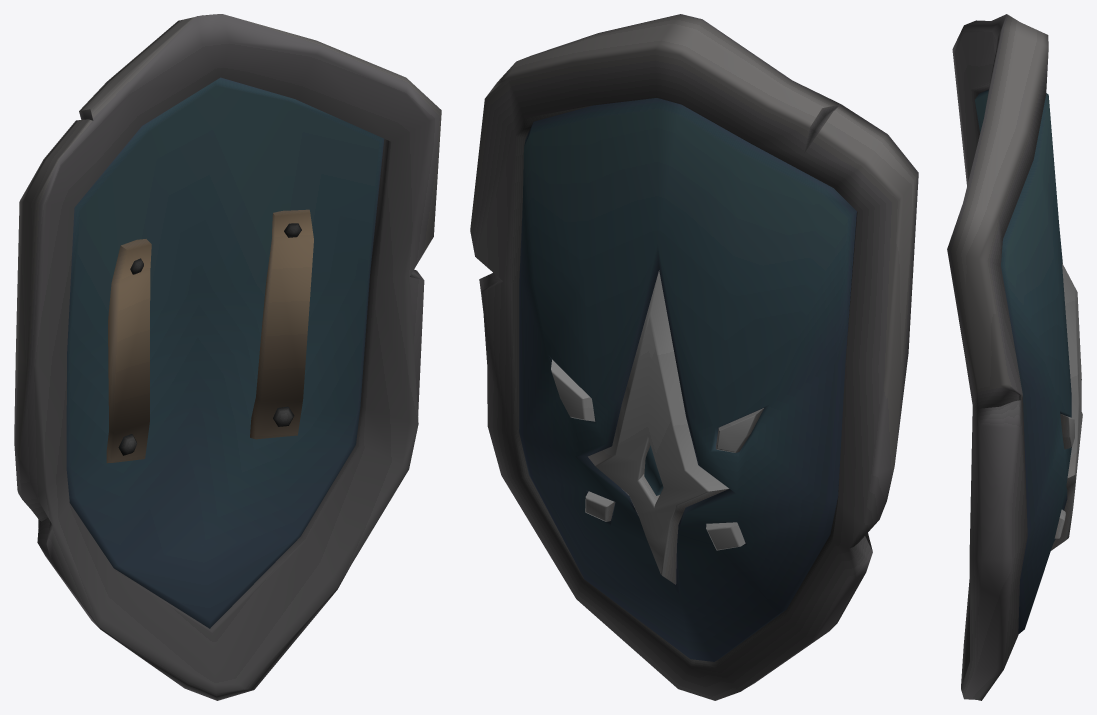
Rendered from CharSkyKid_Prop_AP27Shield.glb.
3 views of the same model, side by side, from view 1: azimuth 30°, elevation 25°; view 2: azimuth 150°, elevation 25°; view 3: azimuth 270°, elevation 25° (orthographic). The views are drawn at different scales.
Parts seen in each view (by area): view 1: CharSkyKid_Prop_AP27Shield; view 2: CharSkyKid_Prop_AP27Shield; view 3: CharSkyKid_Prop_AP27Shield.
Part boxes in pixels (box(x1,y1,x2,y2)): CharSkyKid_Prop_AP27Shield: box(14, 14, 441, 700); CharSkyKid_Prop_AP27Shield: box(470, 14, 918, 700); CharSkyKid_Prop_AP27Shield: box(947, 14, 1082, 700).
Size of the model in its own units: 3.75 by 5.88 by 1.08.
Materials: 1 (1 with a texture image).
